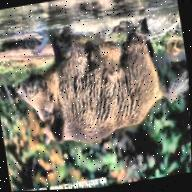boar: (6, 8, 191, 157)
